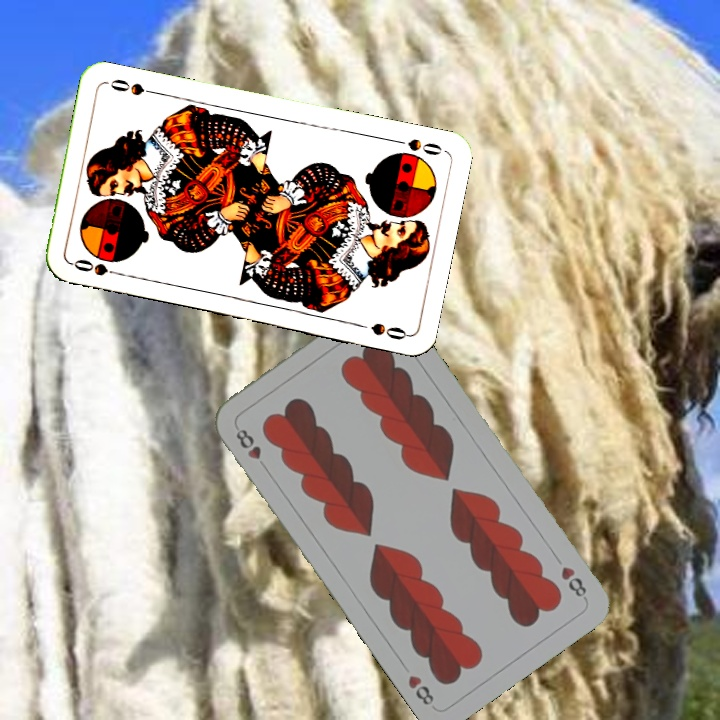H8: (231, 425, 271, 473), (557, 562, 590, 603)
SO: (68, 255, 126, 279), (388, 135, 447, 158)
